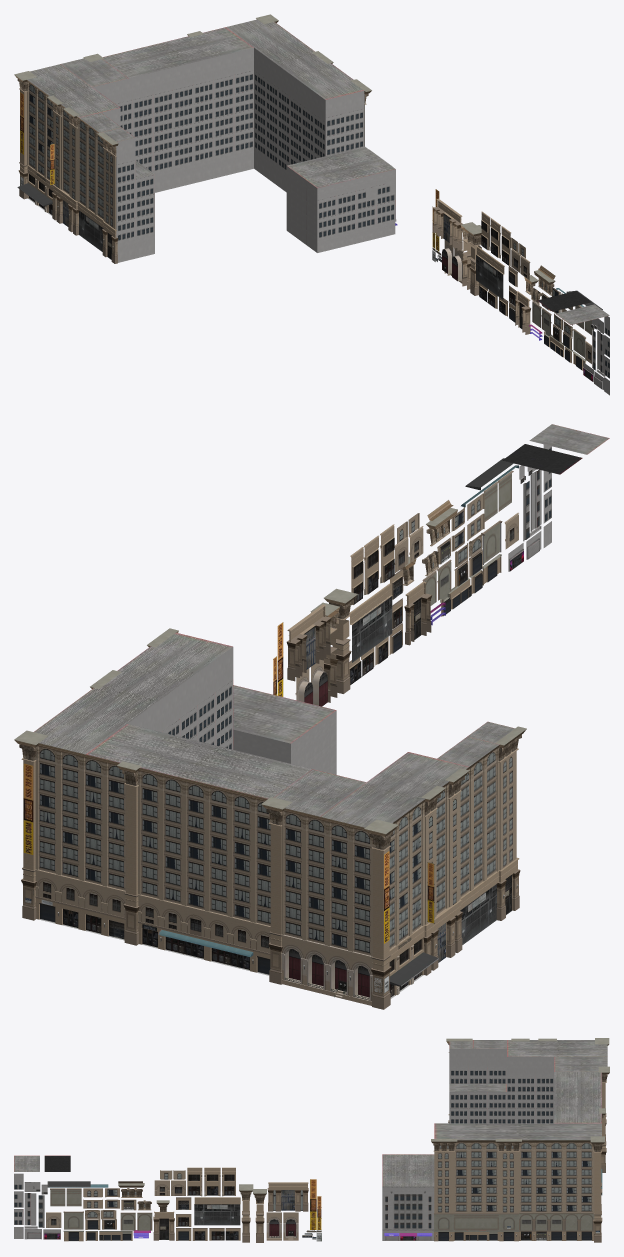
File: bulding_pacific_electric_lofts_low_poly.glb
The picture shows the model from 3 angles, top to bottom: view 1: azimuth 30°, elevation 25°; view 2: azimuth 150°, elevation 25°; view 3: azimuth 270°, elevation 25°; orthographic projection. The views are drawn at different scales.
Parts seen in each view (by area): view 1: Object_4, Object_14; view 2: Object_14, Object_4; view 3: Object_4, Object_14.
Part boxes in pixels (left/top/right/bottom): Object_4: left=17, top=19, right=609, bottom=395; Object_14: left=14, top=14, right=591, bottom=370; Object_14: left=14, top=493, right=526, bottom=1009; Object_4: left=34, top=424, right=609, bottom=986; Object_4: left=14, top=1040, right=607, bottom=1240; Object_14: left=46, top=1038, right=609, bottom=1242.
Bounding box in the file's own units: 77.01 × 34.4 × 182.
2 materials, 2 textured.
